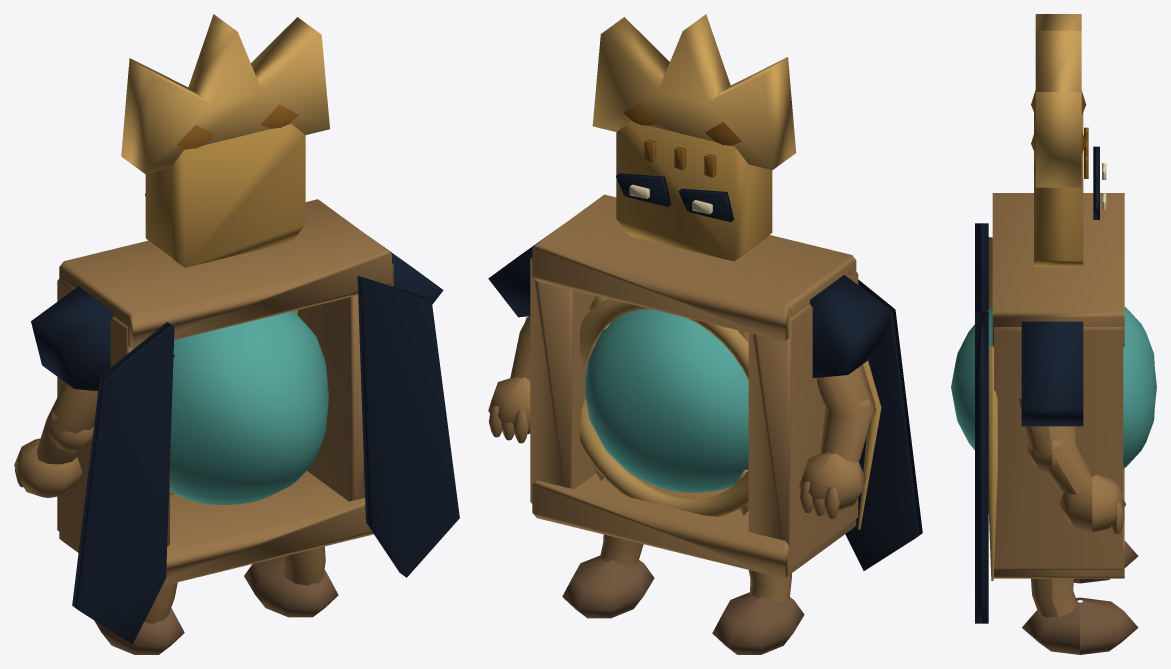
Rendered from hero_toaster.glb.
3 renders of one model, left to right at view 1: azimuth 30°, elevation 25°; view 2: azimuth 150°, elevation 25°; view 3: azimuth 270°, elevation 25°, orthographic. The views are drawn at different scales.
Parts seen in each view (by area): view 1: TailoredCoat (×2), GlassCore, ToasterRail1.24, ToastCrown, ToastFace, ToasterRail0.41, ToasterWall1, ShoulderGuard (×2), Foot1, ToasterWall-1, UpperArm-1, Glove-1 (+4 smaller); view 2: GlassCore, ToasterRail1.24, ToastCrown, ToasterWall-1, ToastFace, ToasterRail0.41, ToasterWall1, TailoredCoat, ShoulderGuard (×2), HeatWindow, Foot1, Foot-1 (+8 smaller); view 3: ToasterWall1, ToasterRail1.24, ToastCrown, ShoulderGuard, GlassCore, TailoredCoat (×2), ToastFace, Foot1, UpperArm1, Glove1, GiltSeam (×2), Shin1 (+3 smaller).
Part boxes in pixels (left/top/right/bottom): TailoredCoat (×2): left=72, top=275, right=459, bottom=644; GlassCore: left=170, top=311, right=328, bottom=504; ToasterRail1.24: left=59, top=199, right=391, bottom=349; ToastCrown: left=121, top=14, right=329, bottom=174; ToastFace: left=145, top=124, right=305, bottom=267; ToasterRail0.41: left=59, top=470, right=373, bottom=585; ToasterWall1: left=298, top=264, right=393, bottom=501; ShoulderGuard (×2): left=31, top=236, right=443, bottom=390; Foot1: left=244, top=556, right=338, bottom=617; ToasterWall-1: left=57, top=277, right=169, bottom=545; UpperArm-1: left=36, top=382, right=98, bottom=464; Glove-1: left=14, top=438, right=82, bottom=497; GlassCore: left=584, top=309, right=748, bottom=492; ToasterRail1.24: left=532, top=194, right=856, bottom=341; ToastCrown: left=592, top=14, right=796, bottom=169; ToasterWall-1: left=748, top=271, right=858, bottom=567; ToastFace: left=616, top=121, right=772, bottom=261; ToasterRail0.41: left=532, top=473, right=856, bottom=578; ToasterWall1: left=530, top=257, right=601, bottom=503; TailoredCoat: left=845, top=279, right=922, bottom=570; ShoulderGuard (×2): left=488, top=228, right=890, bottom=377; HeatWindow: left=580, top=298, right=748, bottom=516; Foot1: left=562, top=555, right=654, bottom=618; Foot-1: left=712, top=592, right=804, bottom=654; ToasterWall1: left=994, top=327, right=1123, bottom=569; ToasterRail1.24: left=992, top=193, right=1124, bottom=347; ToastCrown: left=1035, top=14, right=1081, bottom=187; ShoulderGuard: left=1021, top=321, right=1083, bottom=426; GlassCore: left=951, top=306, right=1156, bottom=468; TailoredCoat (×2): left=975, top=223, right=988, bottom=623; ToastFace: left=1034, top=112, right=1083, bottom=267; Foot1: left=1022, top=597, right=1138, bottom=654; UpperArm1: left=1018, top=398, right=1092, bottom=494; Glove1: left=1058, top=474, right=1125, bottom=532; GiltSeam (×2): left=988, top=237, right=997, bottom=580; Shin1: left=1031, top=578, right=1076, bottom=617.
Bounding box in the file's own units: 1.39 × 2.1 × 0.67.
